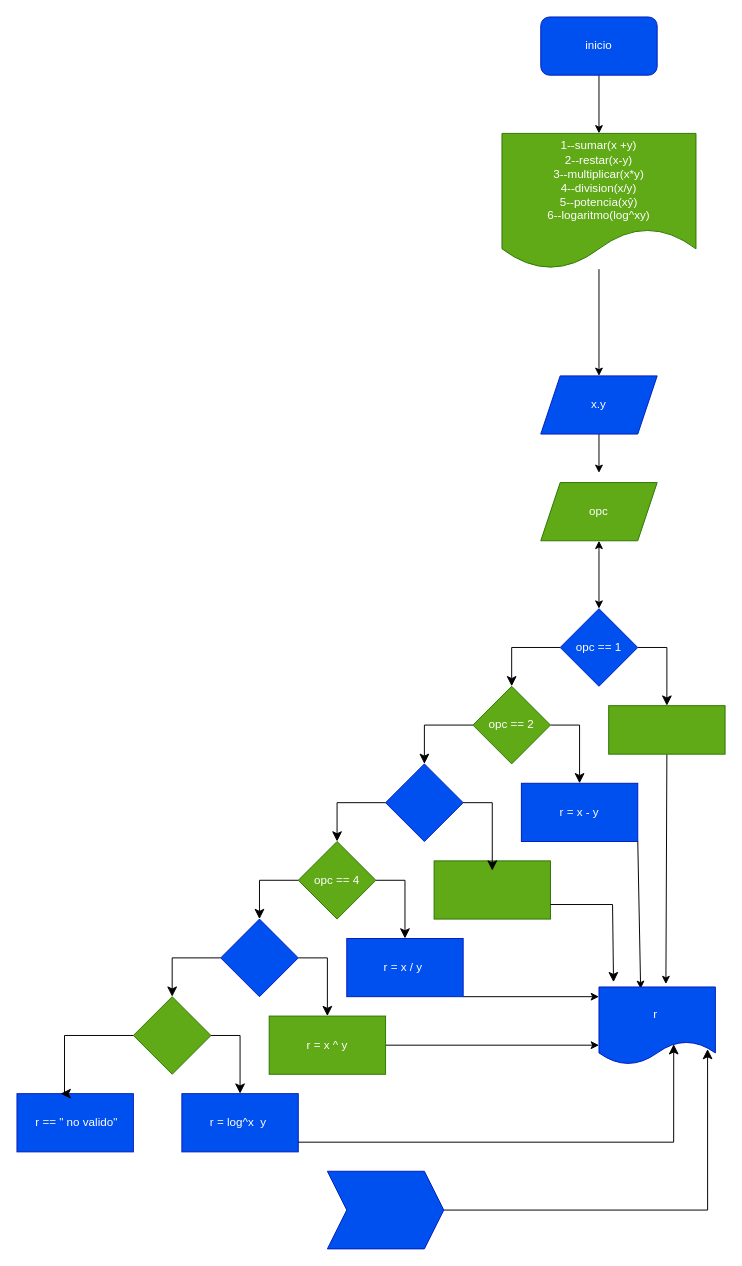
Some shapes in this 742 by 1266 pixel diagram are drawn without their labels. The shapes that lost their labels are listed below. From the top down, each one's centre as x and y in pixels, then its label:
At (x=666, y=729): "r = x + y".
At (x=424, y=802): "opc == 3".
At (x=491, y=889): "r = x * y".
At (x=259, y=957): "opc == 5".
At (x=171, y=1035): "opc == 6".
At (x=385, y=1209): "fin".
